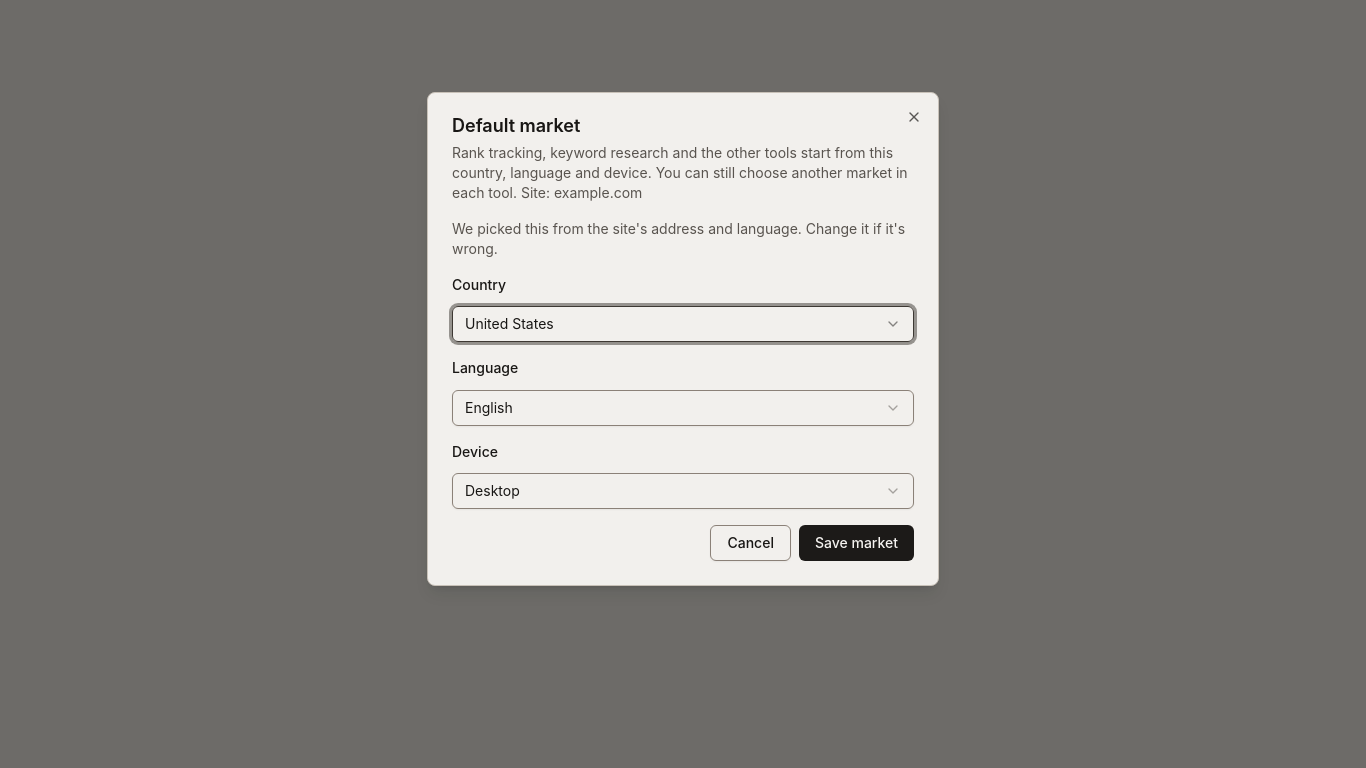
Test: SiteMarketDialog › shows the server message when saving fails and keeps the dialog open
Click the button "Save market" at (856,543), box x1=799 y1=525 x2=914 y2=561
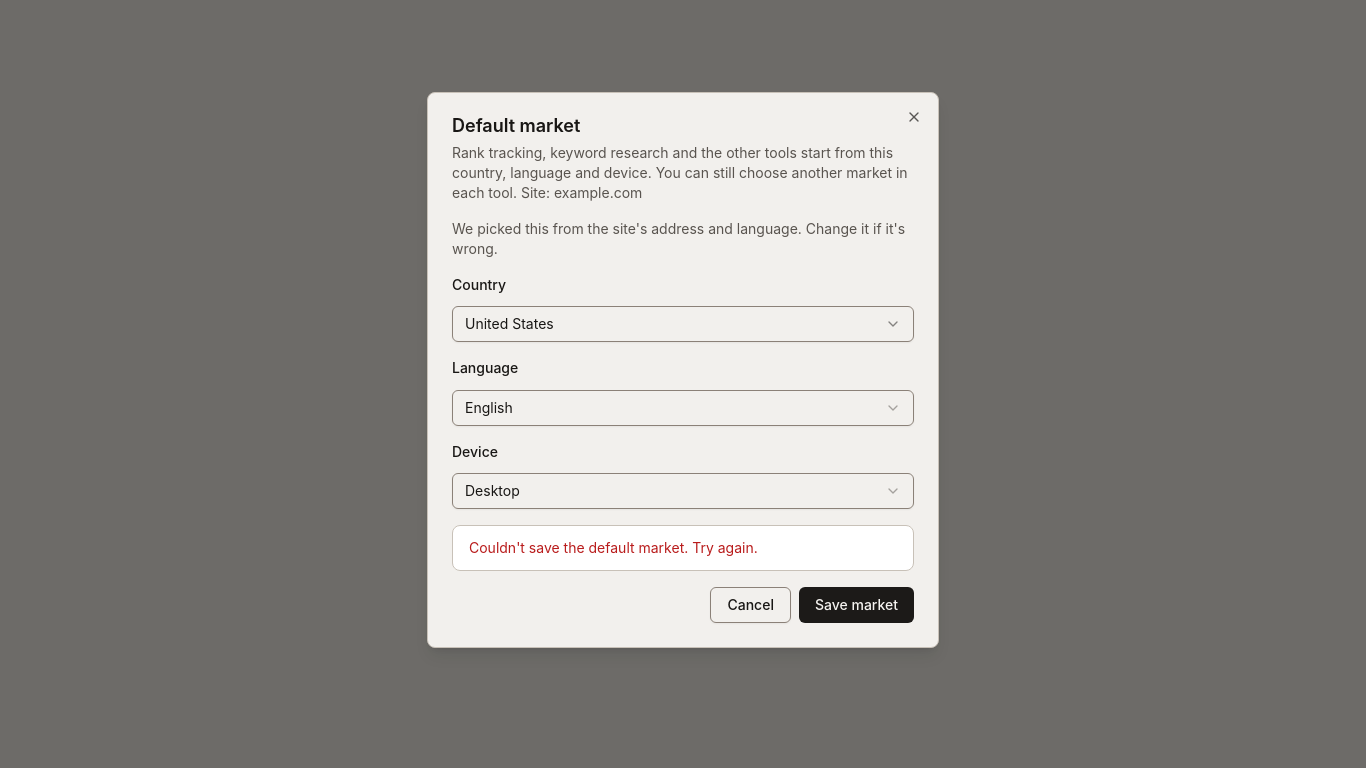
Result: the message "Couldn't save the default market. Try again." is shown at x1=452 y1=525 x2=914 y2=571
